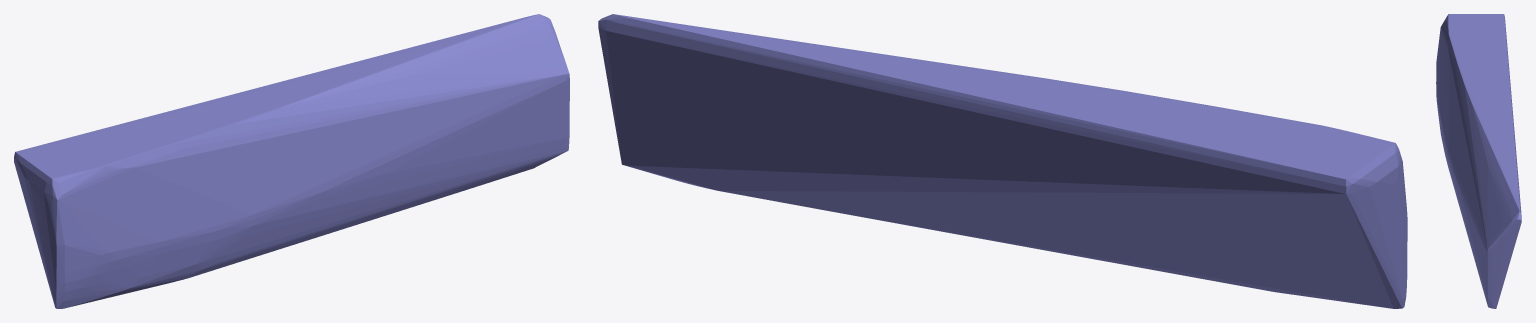
File: left-shin-0_part_12.obj
The picture shows the model from 3 angles, left to right: view 1: azimuth 30°, elevation 25°; view 2: azimuth 150°, elevation 25°; view 3: azimuth 270°, elevation 25°; orthographic projection. The views are drawn at different scales.
Size of the model in its own units: 0.1455 by 0.0337 by 0.026.
